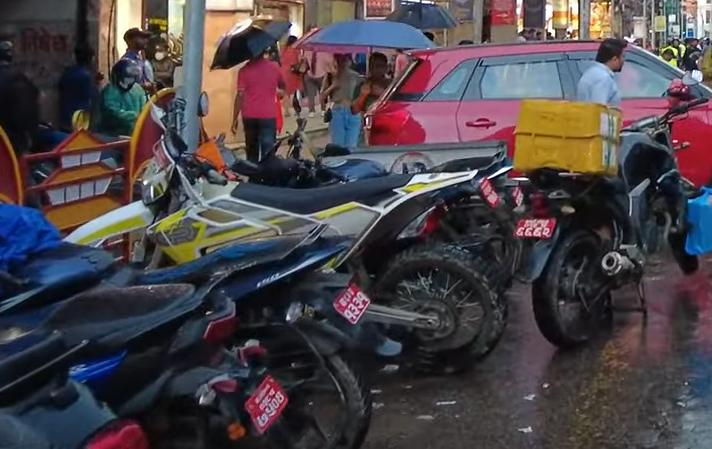bike: (506, 67, 710, 352)
